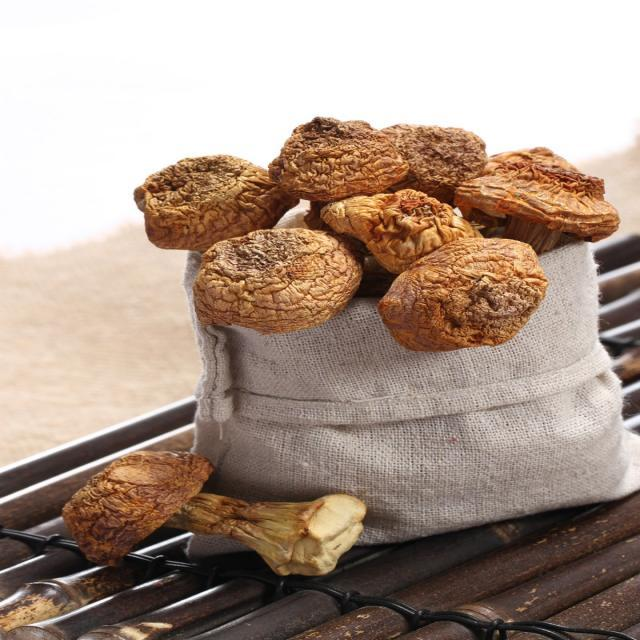Agaricus blazei Murill: (131, 116, 619, 343), (69, 449, 363, 578)
